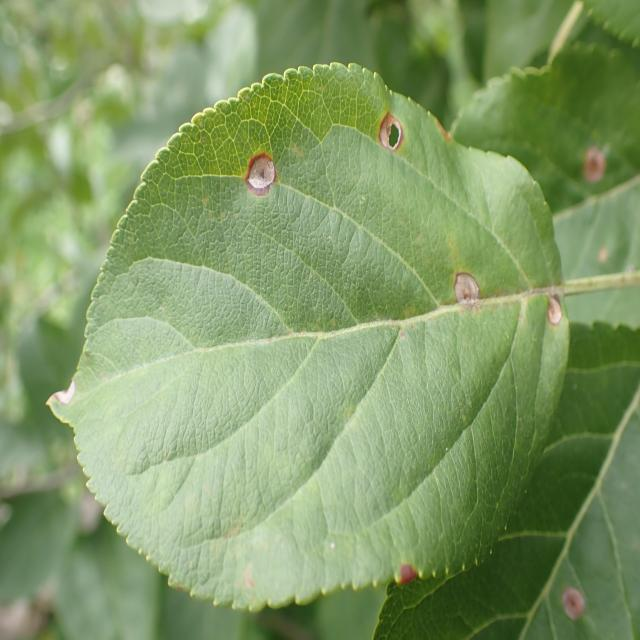Black Rot: (434, 232, 498, 331), (357, 80, 414, 190), (230, 107, 278, 222), (568, 102, 614, 214), (371, 520, 424, 610), (534, 288, 586, 358), (548, 583, 613, 637)
